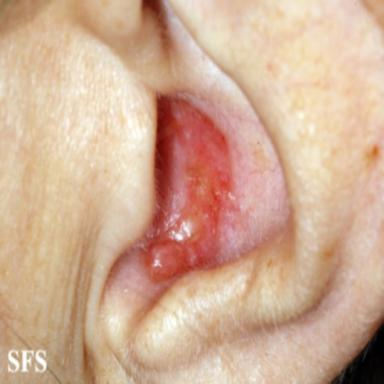basal-cell-carcinoma: (137, 94, 234, 281)
